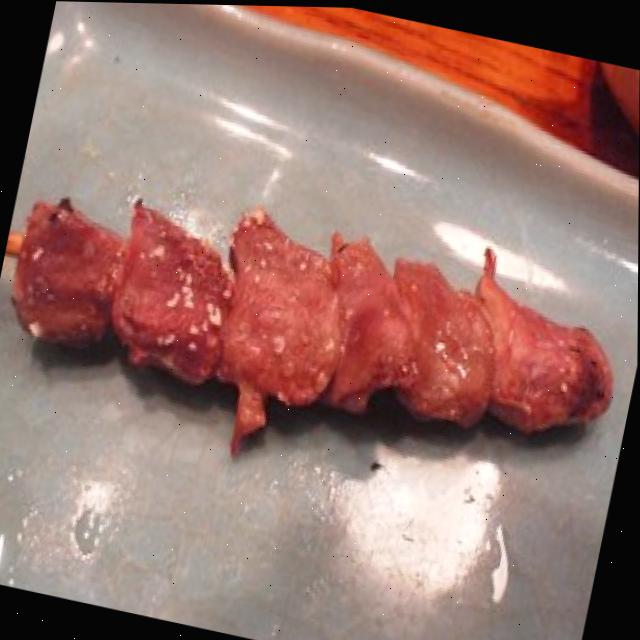烧串烤肉: (0, 137, 639, 539)
